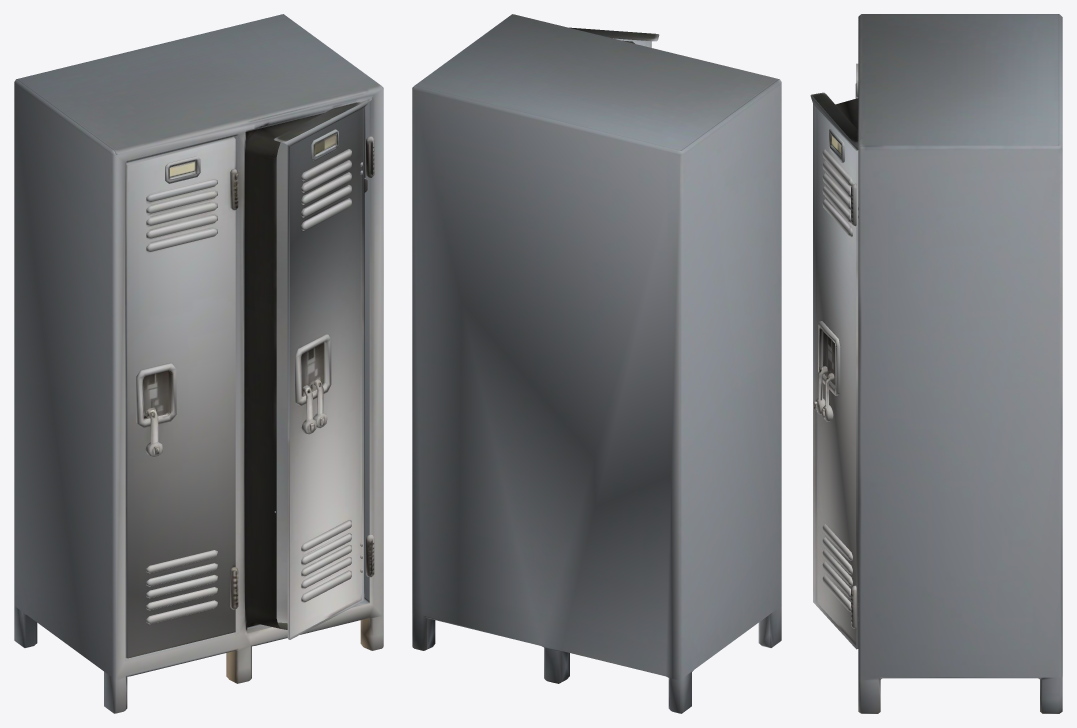
Rendered from a_metal_locker_c5ca76ff_v2.glb.
3 renders of one model, left to right at view 1: azimuth 30°, elevation 25°; view 2: azimuth 150°, elevation 25°; view 3: azimuth 270°, elevation 25°, orthographic.
Visible parts, largest first — view 1: material; view 2: material; view 3: material.
Boxes of the visible parts, bbox=[...] form: material: bbox=[14, 14, 383, 713]; material: bbox=[412, 14, 781, 713]; material: bbox=[810, 14, 1062, 713].
Size of the model in its own units: 0.9588 by 1.9 by 0.7636.
Materials: 1 (1 with a texture image).
